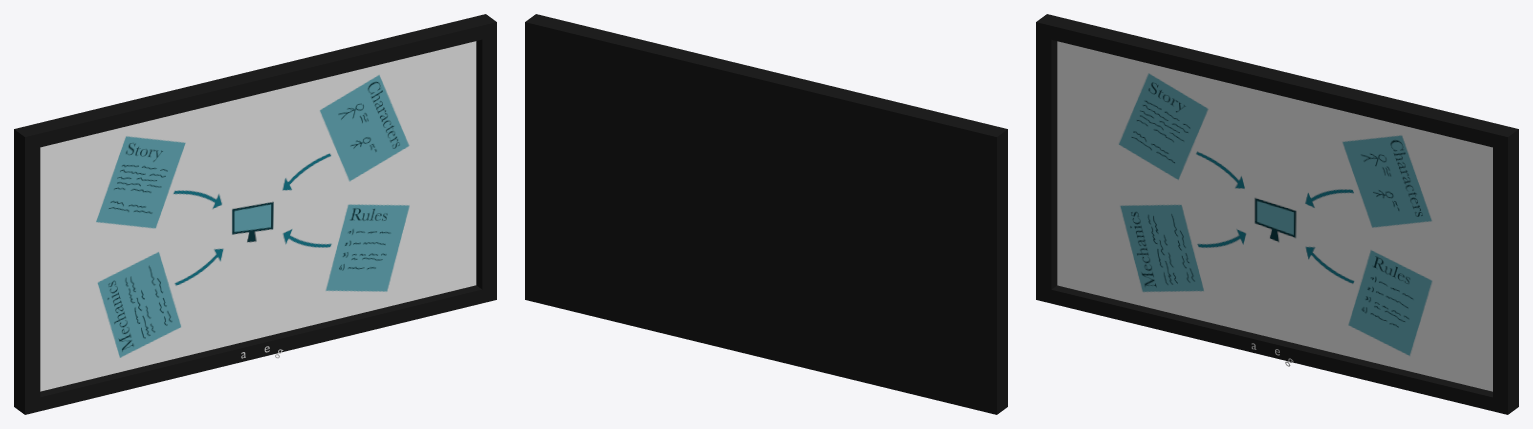
Rendered from gdPoster.gltf.
3 views of the same model, side by side, from view 1: azimuth 30°, elevation 25°; view 2: azimuth 150°, elevation 25°; view 3: azimuth 330°, elevation 25° (orthographic).
Parts seen in each view (by area): view 1: Cube.005; view 2: Cube.005; view 3: Cube.005.
Boxes of the visible parts, <box> form: Cube.005: <box>14,14,496,414</box>; Cube.005: <box>525,14,1007,414</box>; Cube.005: <box>1036,14,1518,414</box>.
Bounding box in the file's own units: 2.47 × 1.41 × 0.103.
2 materials, 1 textured.
